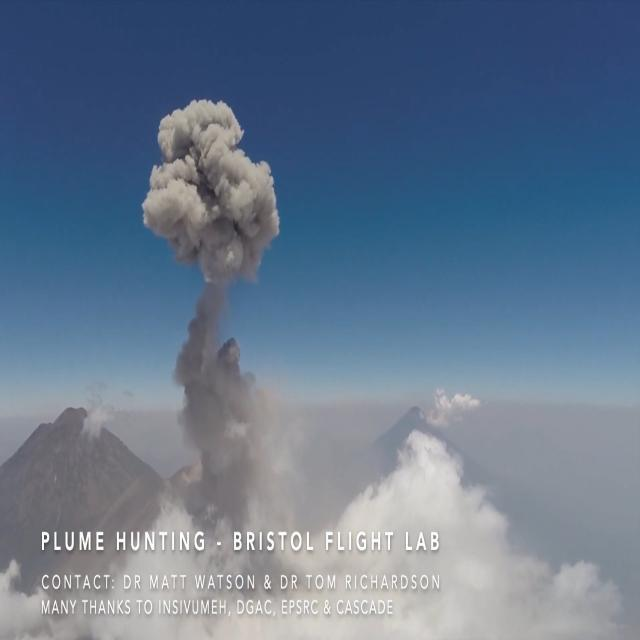Plume: (138, 82, 280, 281), (178, 290, 274, 510)
